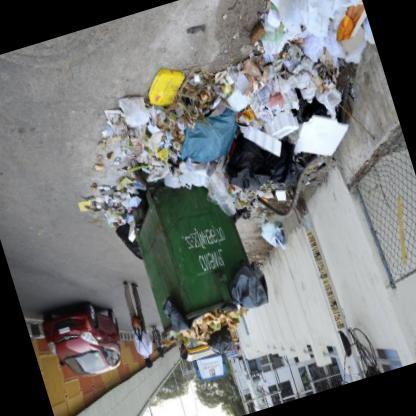Garbage: (112, 4, 341, 182), (187, 15, 354, 218), (225, 0, 400, 163), (90, 42, 254, 200), (180, 302, 250, 366), (90, 167, 144, 244), (227, 254, 275, 316), (112, 205, 145, 266), (258, 211, 288, 254)
